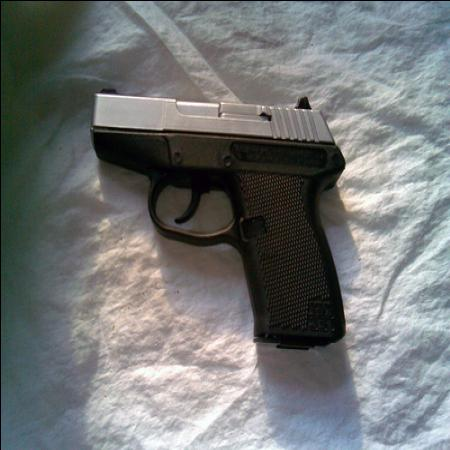Pistol: (88, 84, 342, 347)
